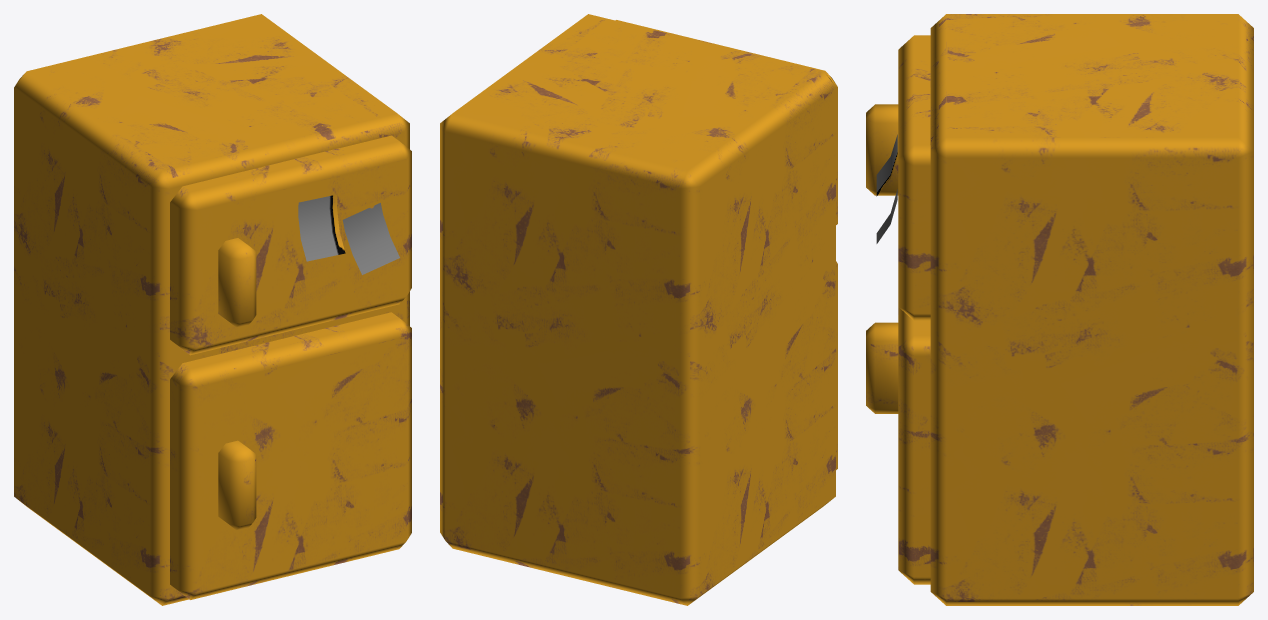
Rendered from fridge.glb.
3 renders of one model, left to right at view 1: azimuth 30°, elevation 25°; view 2: azimuth 150°, elevation 25°; view 3: azimuth 270°, elevation 25°, orthographic. The views are drawn at different scales.
Parts seen in each view (by area): view 1: fridge; view 2: fridge; view 3: fridge.
Boxes of the visible parts, <box> form: fridge: <box>14,14,411,605</box>; fridge: <box>440,14,837,605</box>; fridge: <box>866,14,1253,605</box>.
Bounding box in the file's own units: 1 × 1.6 × 1.2.
Materials: 1 (1 with a texture image).
